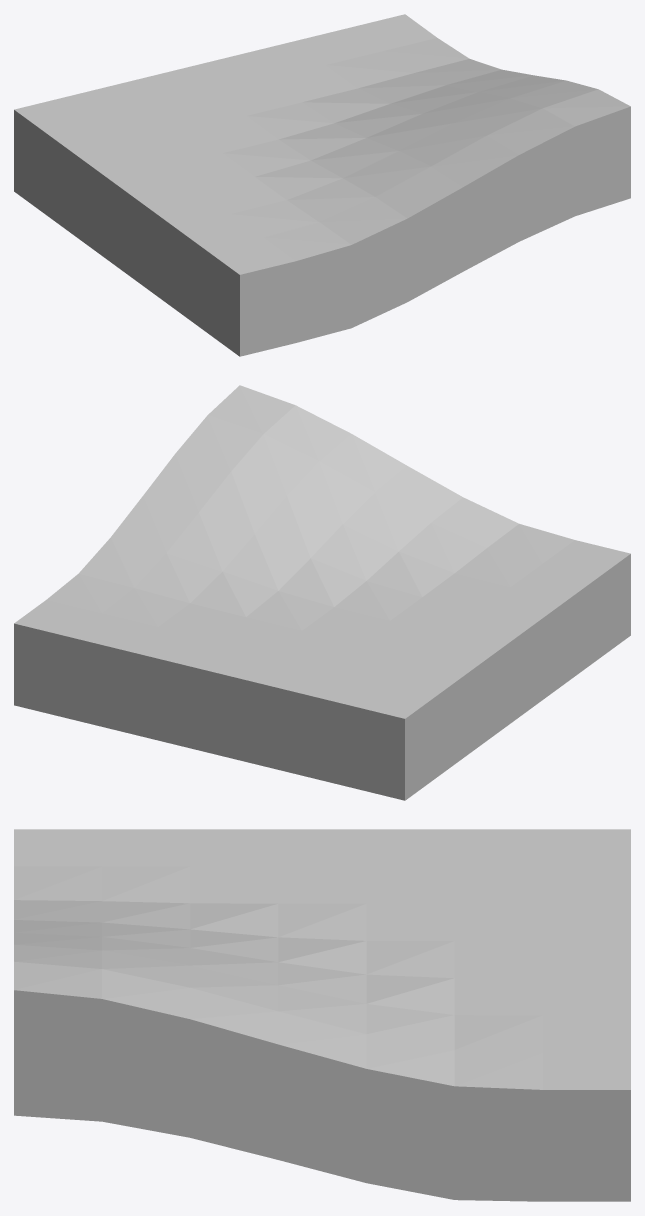
The model's file is CubeLiftedCorner_40x40x8.fbx.
3 renders of one model, top to bottom at view 1: azimuth 30°, elevation 25°; view 2: azimuth 150°, elevation 25°; view 3: azimuth 270°, elevation 25°, orthographic. The views are drawn at different scales.
Parts seen in each view (by area): view 1: CubeLiftedCorner_40x40x8; view 2: CubeLiftedCorner_40x40x8; view 3: CubeLiftedCorner_40x40x8.
Boxes of the visible parts, <box> form: CubeLiftedCorner_40x40x8: <box>14,14,630,356</box>; CubeLiftedCorner_40x40x8: <box>14,385,630,800</box>; CubeLiftedCorner_40x40x8: <box>14,829,630,1201</box>.
Size of the model in its own units: 40 by 40 by 15.14.
